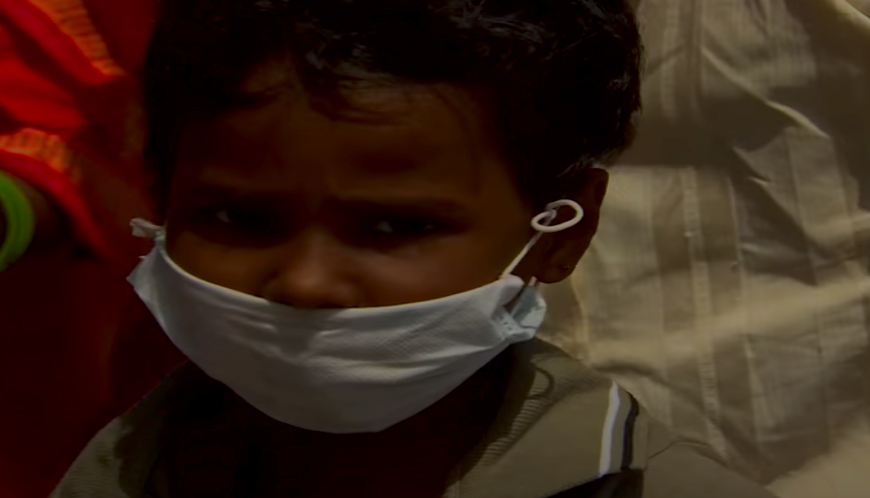mask_weared_incorrect: (124, 7, 598, 436)
